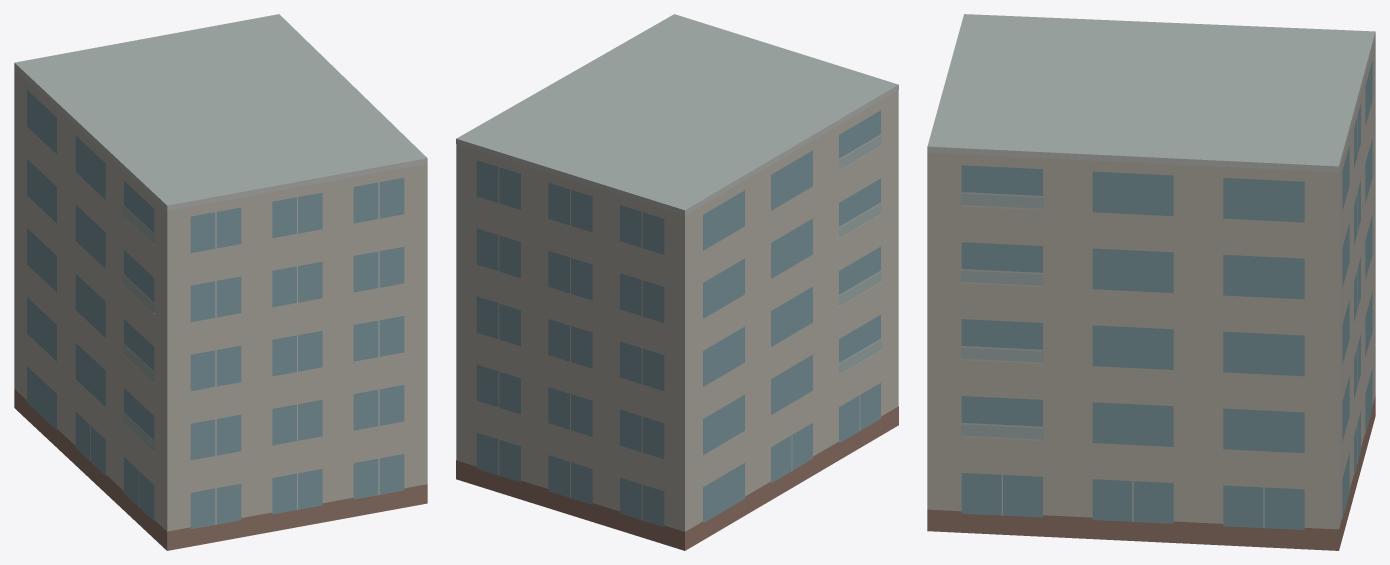
File: survey-upis-32721387.glb
3 views of the same model, side by side, from view 1: azimuth 30°, elevation 25°; view 2: azimuth 150°, elevation 25°; view 3: azimuth 270°, elevation 25° (orthographic). The views are drawn at different scales.
Visible parts, largest first — view 1: survey-upis-32721387.tmp; view 2: survey-upis-32721387.tmp; view 3: survey-upis-32721387.tmp.
Part boxes in pixels (left/top/right/bottom): survey-upis-32721387.tmp: left=14, top=14, right=427, bottom=550; survey-upis-32721387.tmp: left=456, top=14, right=898, bottom=550; survey-upis-32721387.tmp: left=927, top=14, right=1375, bottom=550.
Size of the model in its own units: 13.18 by 15.5 by 16.38.
